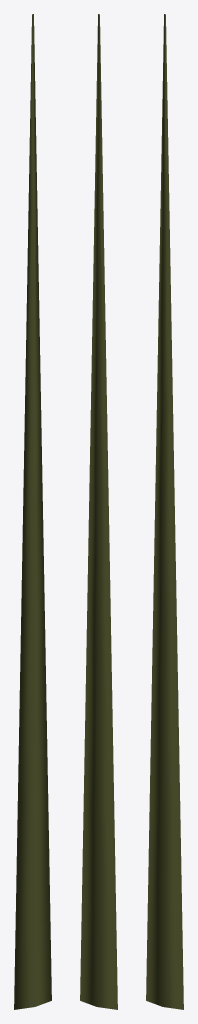
The model's file is Grass Blade.fbx.
3 renders of one model, left to right at view 1: azimuth 30°, elevation 25°; view 2: azimuth 150°, elevation 25°; view 3: azimuth 330°, elevation 25°, orthographic.
Visible parts, largest first — view 1: GRASS BLADE; view 2: GRASS BLADE; view 3: GRASS BLADE.
Boxes of the visible parts, x1=… form: GRASS BLADE: x1=14, y1=14, x2=51, y2=1009; GRASS BLADE: x1=80, y1=14, x2=117, y2=1009; GRASS BLADE: x1=146, y1=14, x2=183, y2=1009.
Size of the model in its own units: 2 by 50 by 0.4083.
